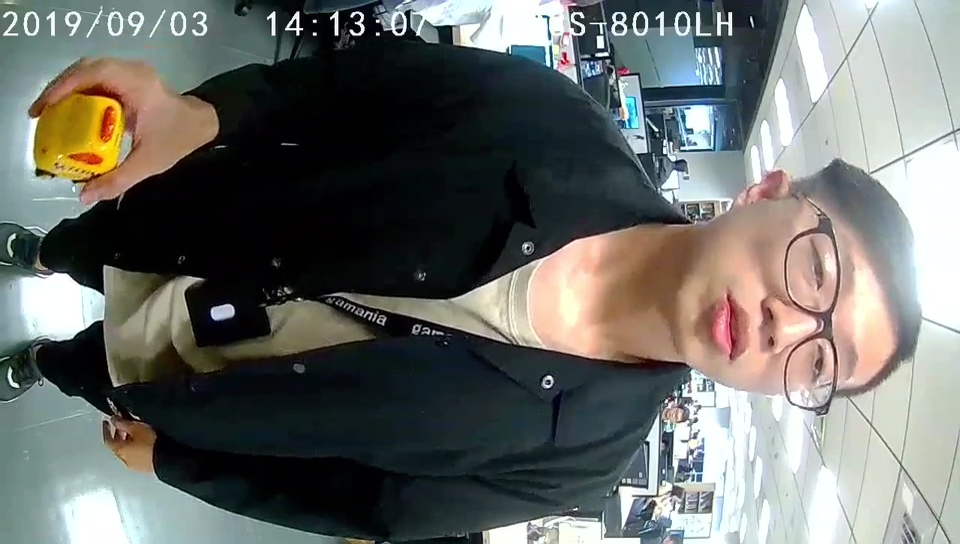car: (35, 93, 120, 179)
